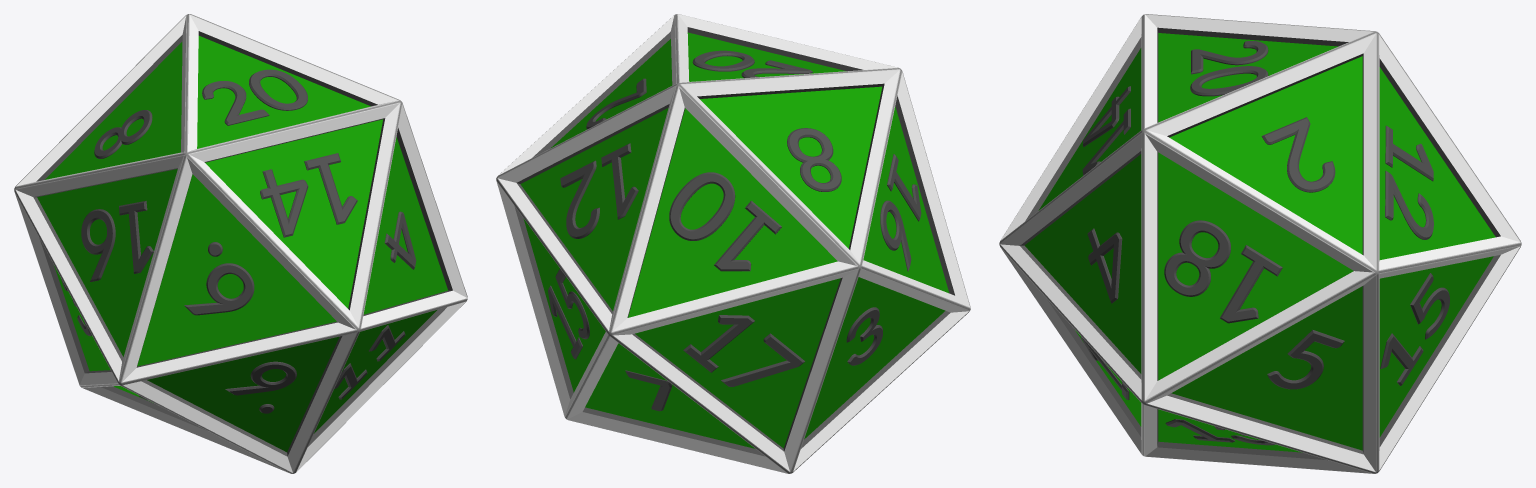
File: albardon-die.fbx
3 renders of one model, left to right at view 1: azimuth 30°, elevation 25°; view 2: azimuth 150°, elevation 25°; view 3: azimuth 270°, elevation 25°, orthographic. The views are drawn at different scales.
Visible parts, largest first — view 1: Icosphere; view 2: Icosphere; view 3: Icosphere.
Boxes of the visible parts, x1,y1,x2,y2 form: Icosphere: (14,14,467,473); Icosphere: (496,14,970,473); Icosphere: (999,14,1521,473).
Bounding box in the file's own units: 170 × 178 × 199.
